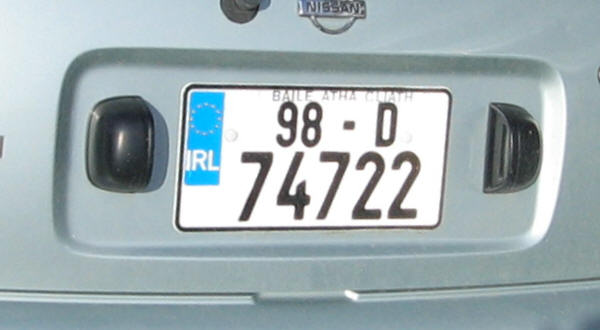license_plate: (174, 82, 452, 228)
